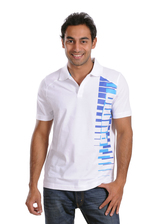clothoes: (32, 58, 134, 194)
